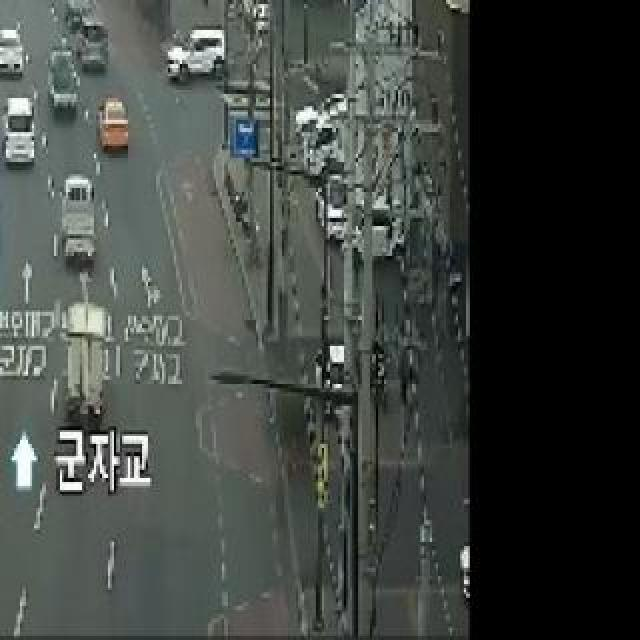truck: (59, 304, 107, 420), (56, 179, 102, 265), (46, 42, 78, 118)
